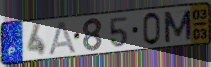0: (141, 11, 162, 47)
4: (25, 21, 48, 59)
5: (108, 15, 130, 48)
8: (81, 17, 103, 53)
A: (48, 20, 78, 56)
M: (162, 8, 193, 44)
